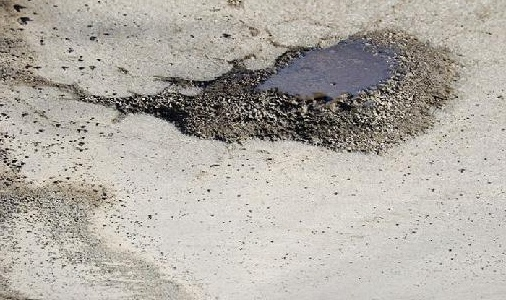pothole: (127, 28, 461, 157)
